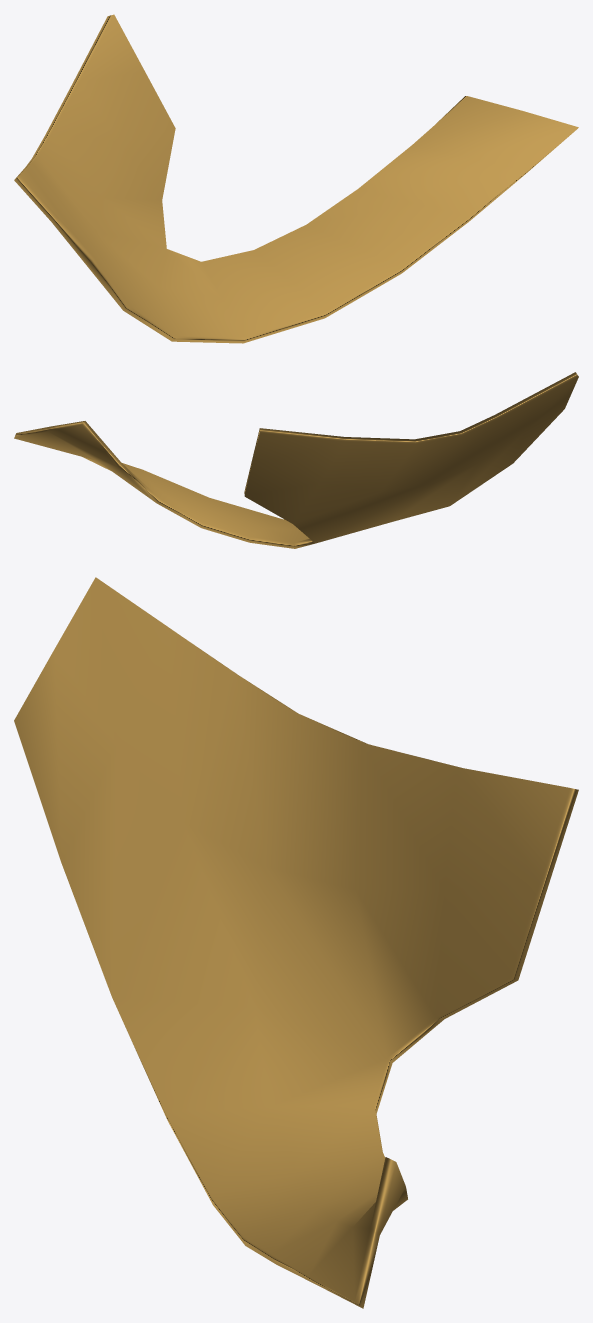
3 views of the same model, one above another, from view 1: azimuth 30°, elevation 25°; view 2: azimuth 150°, elevation 25°; view 3: azimuth 270°, elevation 25° (orthographic). The views are drawn at different scales.
Visible parts, largest first — view 1: 左侧尺侧副韧带; view 2: 左侧尺侧副韧带; view 3: 左侧尺侧副韧带.
Boxes of the visible parts, <box> form: 左侧尺侧副韧带: <box>14,14,578,343</box>; 左侧尺侧副韧带: <box>14,372,578,548</box>; 左侧尺侧副韧带: <box>14,577,578,1308</box>.
Size of the model in its own units: 0.0685 by 0.0257 by 0.0347.
